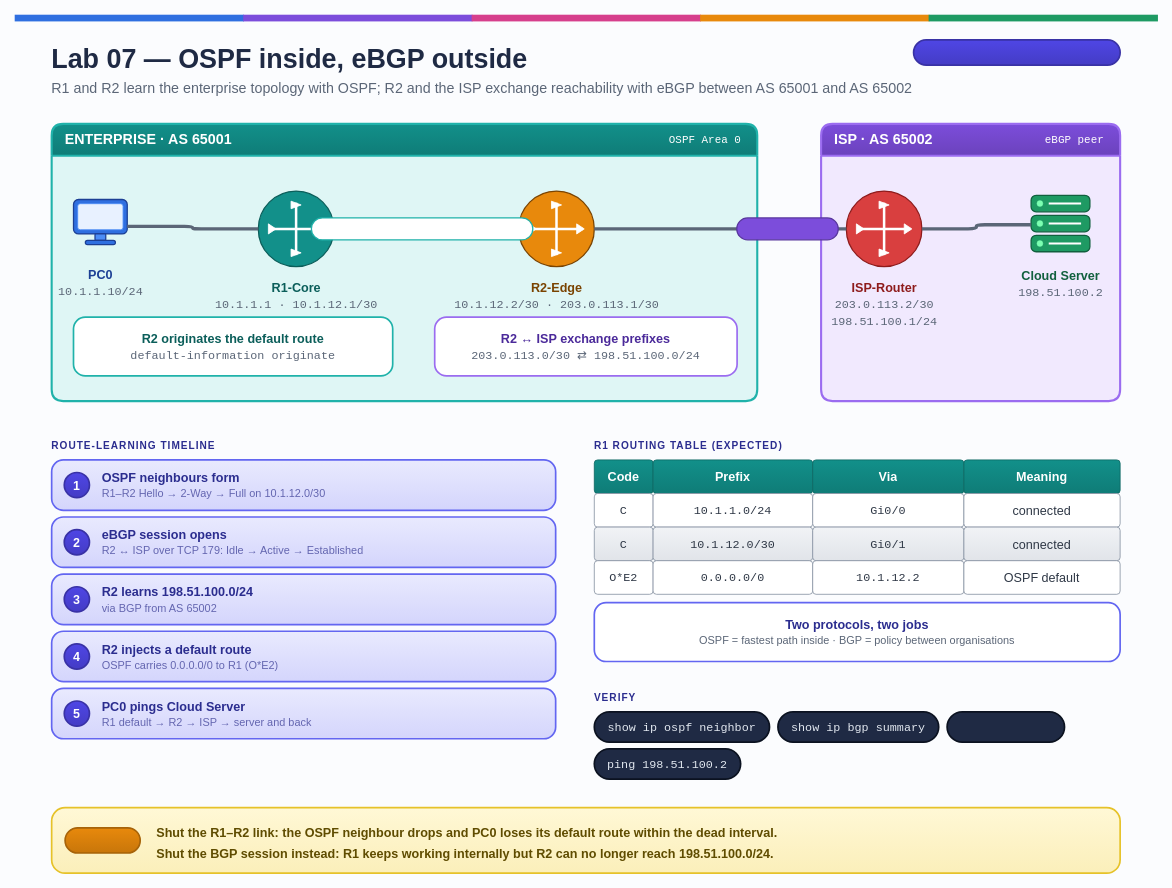
Some shapes in this 1172 by 888 pixel diagram are drawn without their labels. The centre of each missing label's shape, as x and y in pixels:
eBGP TCP 179: pixel 787 228
LAB 07 · PACKET TRACER LAB: pixel 1016 52
OBSERVE: pixel 102 840
OSPF adjacency · 10.1.12.0/30: pixel 421 228
show ip route: pixel 1005 727
